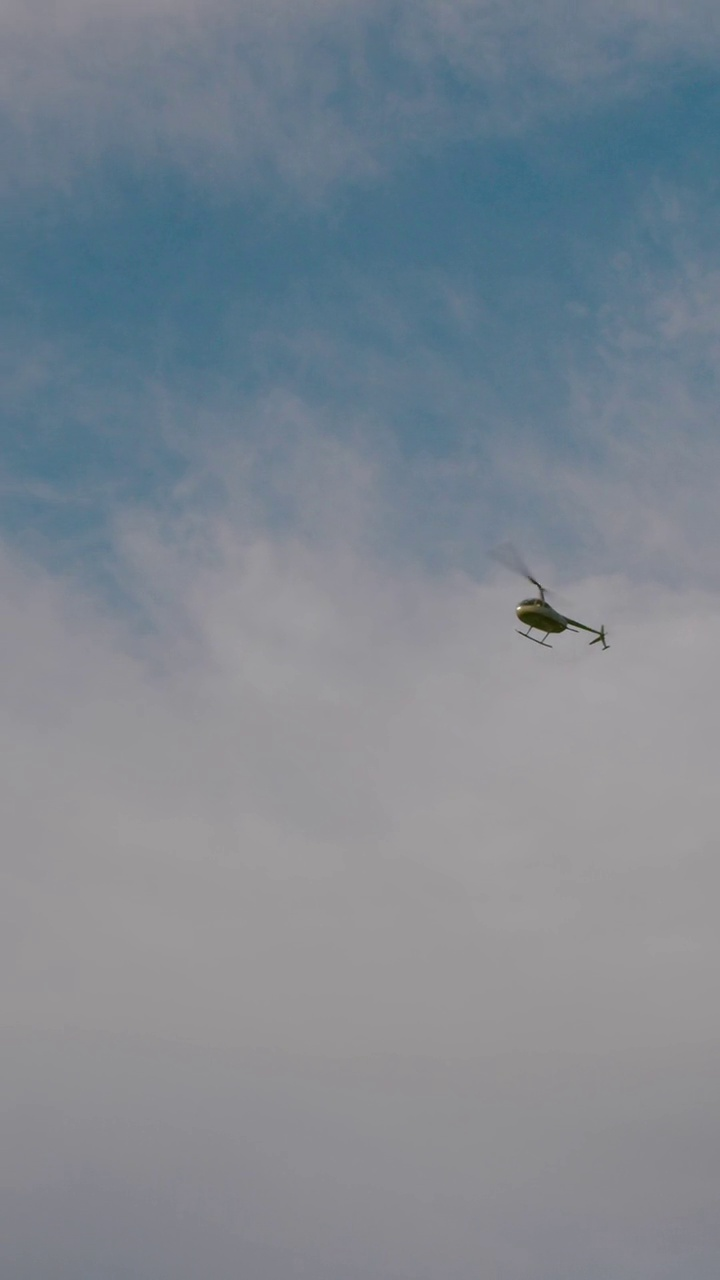heli: (500, 540, 613, 652)
